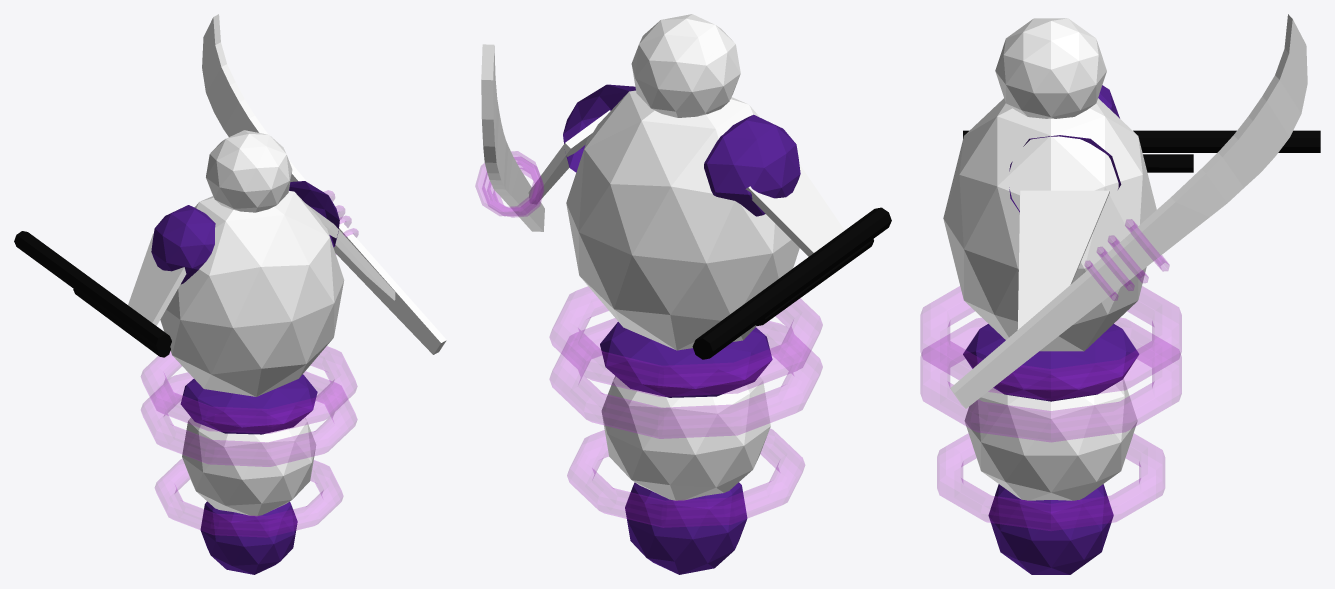
The model's file is soldier_bot.fbx.
The picture shows the model from 3 angles, left to right: view 1: azimuth 30°, elevation 25°; view 2: azimuth 150°, elevation 25°; view 3: azimuth 270°, elevation 25°; orthographic projection. The views are drawn at different scales.
Visible parts, largest first — view 1: SoldierSegment_4, SoldierSegment_2, SoldierRing_1, SoldierRing_3, Blade, SoldierSegment_5, SoldierRing_2, SoldierSegment_3, SoldierSegment_1, SoldierGun_1, SoldierHinge_1, Arm_1 (+2 smaller); view 2: SoldierSegment_4, SoldierSegment_2, SoldierRing_1, SoldierRing_3, SoldierSegment_5, SoldierRing_2, SoldierSegment_1, SoldierSegment_3, SoldierHinge_1, SoldierGun_1, Blade, Arm_1 (+5 smaller); view 3: SoldierSegment_4, Blade, SoldierSegment_2, SoldierRing_1, SoldierRing_3, SoldierSegment_5, SoldierRing_2, SoldierSegment_1, Arm_2, SoldierSegment_3, SoldierGun_1, SoldierGun_2 (+2 smaller).
Part boxes in pixels (x1,y1,x2,y2): SoldierSegment_4: (160,191,344,396); SoldierSegment_2: (182,417,316,516); SoldierRing_1: (141,371,357,466); SoldierRing_3: (141,346,357,433); Blade: (202,14,446,354); SoldierSegment_5: (206,130,292,212); SoldierRing_2: (155,459,343,537); SoldierSegment_3: (180,374,317,434); SoldierSegment_1: (200,501,297,574); SoldierGun_1: (14,231,171,351); SoldierHinge_1: (151,205,215,284); Arm_1: (128,233,186,325); SoldierSegment_4: (566,90,799,350); SoldierSegment_2: (601,376,770,500); SoldierRing_1: (549,318,822,438); SoldierRing_3: (549,286,822,396); SoldierSegment_5: (631,14,740,117); SoldierRing_2: (567,428,804,527); SoldierSegment_1: (625,482,747,574); SoldierSegment_3: (600,322,772,397); SoldierHinge_1: (704,114,800,216); SoldierGun_1: (692,207,891,359); Blade: (481,44,544,231); Arm_1: (745,164,844,256); SoldierSegment_4: (943,98,1156,351); Blade: (950,14,1307,408); SoldierSegment_2: (964,378,1137,500); SoldierRing_1: (920,318,1181,441); SoldierRing_3: (920,286,1181,400); SoldierSegment_5: (995,18,1106,118); SoldierRing_2: (937,434,1164,530); SoldierSegment_1: (988,484,1113,574); Arm_2: (1017,190,1109,329); SoldierSegment_3: (963,324,1139,401); SoldierGun_1: (963,130,1320,152); SoldierGun_2: (1143,154,1193,172).
Bounding box in the file's own units: 307 × 479 × 293.
